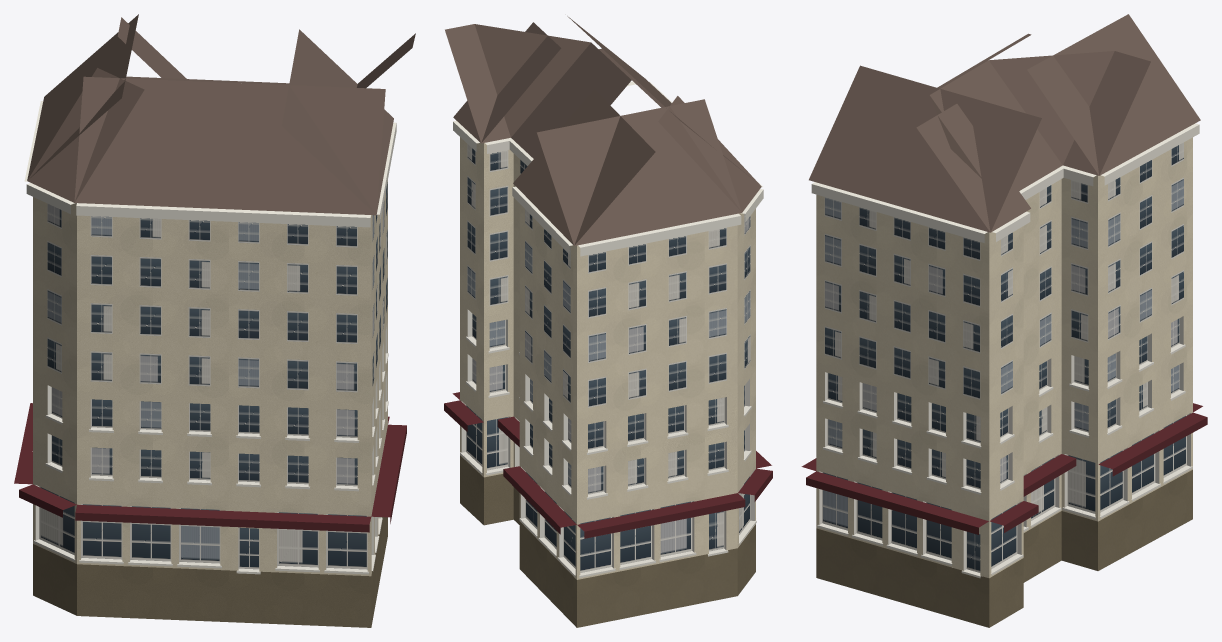
The model's file is z2_gaso26.glb.
3 renders of one model, left to right at view 1: azimuth 30°, elevation 25°; view 2: azimuth 150°, elevation 25°; view 3: azimuth 270°, elevation 25°, orthographic. The views are drawn at different scales.
Parts seen in each view (by area): view 1: z2_gaso26; view 2: z2_gaso26; view 3: z2_gaso26.
Boxes of the visible parts, <box> form: z2_gaso26: <box>14,14,415,627</box>; z2_gaso26: <box>444,16,772,627</box>; z2_gaso26: <box>801,14,1207,627</box>.
Size of the model in its own units: 22.19 by 29.08 by 22.25.
Materials: 3 (3 with a texture image).
